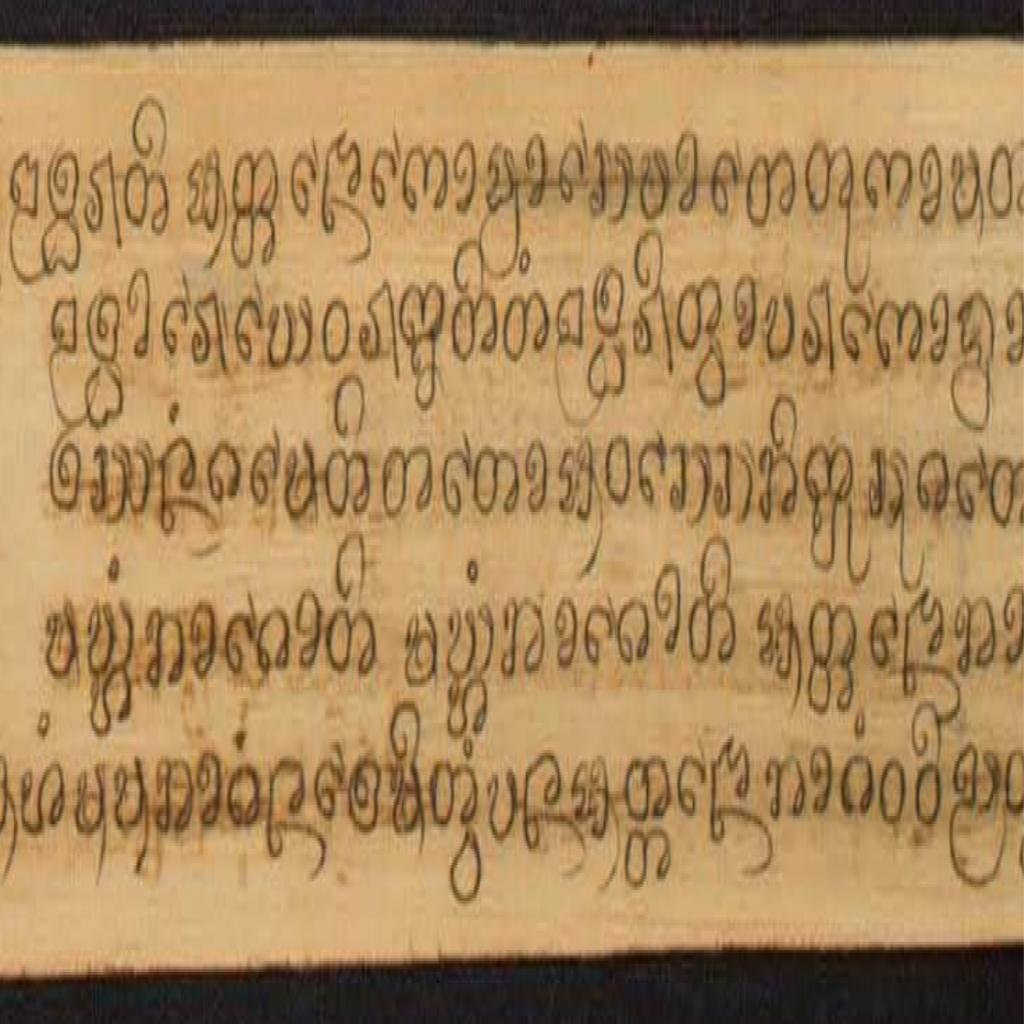LN001: (401, 138, 452, 221)
LN024: (763, 283, 798, 373)
LN035: (878, 748, 909, 837)
